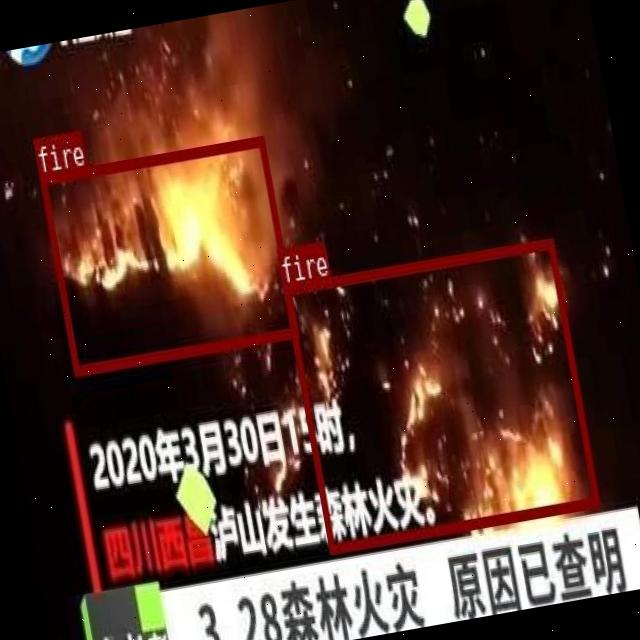fire: (281, 236, 598, 552), (38, 134, 297, 374)
